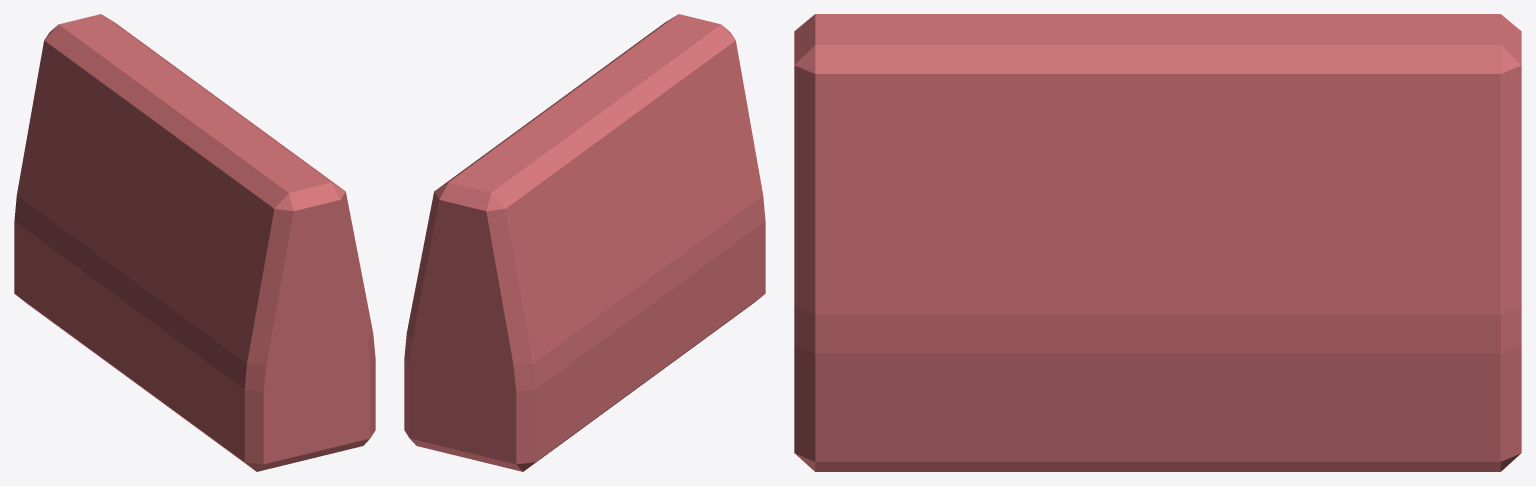
The model's file is Barrier B.fbx.
3 views of the same model, side by side, from view 1: azimuth 30°, elevation 25°; view 2: azimuth 150°, elevation 25°; view 3: azimuth 270°, elevation 25° (orthographic). The views are drawn at different scales.
Parts seen in each view (by area): view 1: Barrier B; view 2: Barrier B; view 3: Barrier B.
Boxes of the visible parts, box(x1,y1,x2,y2) form: Barrier B: box(14, 14, 375, 471); Barrier B: box(404, 14, 765, 471); Barrier B: box(794, 14, 1521, 471).
Bounding box in the file's own units: 63.61 × 126 × 206.
